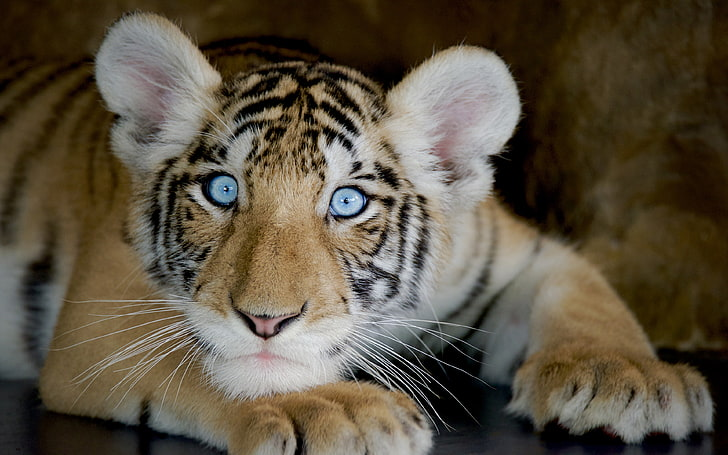Tigrew: (77, 20, 704, 442)
